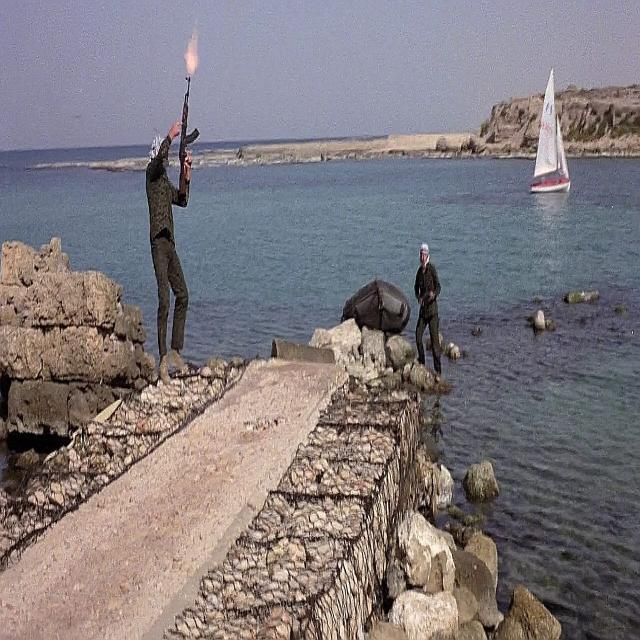gun-knife-thesis - v11 Yolov5 augmented: (165, 68, 206, 205)
